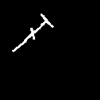double_crochet: (12, 14, 53, 51)
